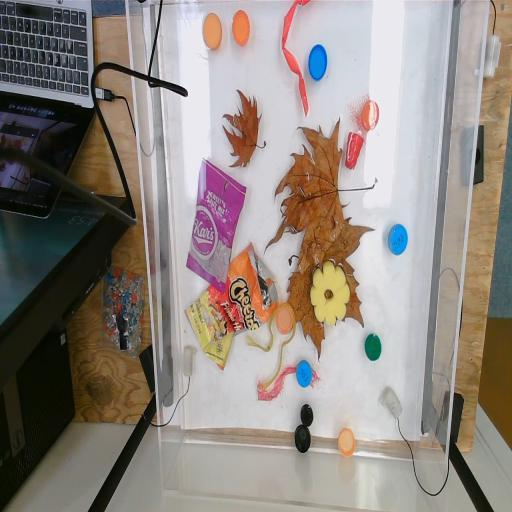Bottle Cap: (308, 43, 328, 82), (202, 12, 222, 51), (232, 9, 250, 46), (388, 223, 408, 256), (361, 99, 379, 131), (338, 428, 356, 458), (294, 424, 311, 454), (364, 333, 382, 361), (276, 306, 293, 335), (296, 359, 312, 388), (300, 404, 314, 428)
Cone Cap: (345, 132, 364, 170)
Leaf: (264, 116, 375, 276), (286, 255, 364, 363), (221, 86, 267, 170)
Netting: (257, 366, 321, 402), (346, 94, 370, 147)
Plastic Bag: (183, 239, 280, 372), (186, 156, 248, 296)
Plastic Strand: (244, 302, 296, 390), (281, 0, 310, 118)
Sponge: (310, 261, 350, 327)
